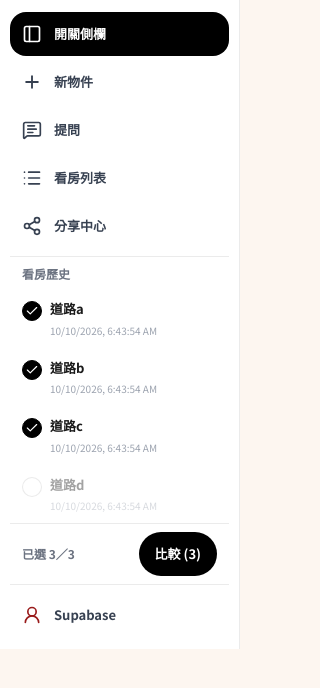
Scenario: IconRail compare mode › does not select a fourth row
This screenshot has width=320, height=688.
Step 1. Click the checkbox labelled "道路d 10/10/2026, 6:43:54 AM" → point(120, 494), box [10,464,229,523]
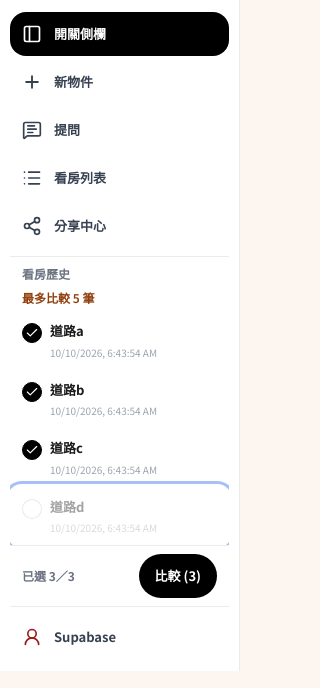
Now the message reads "最多比較 5 筆", box [22,289,94,306]
